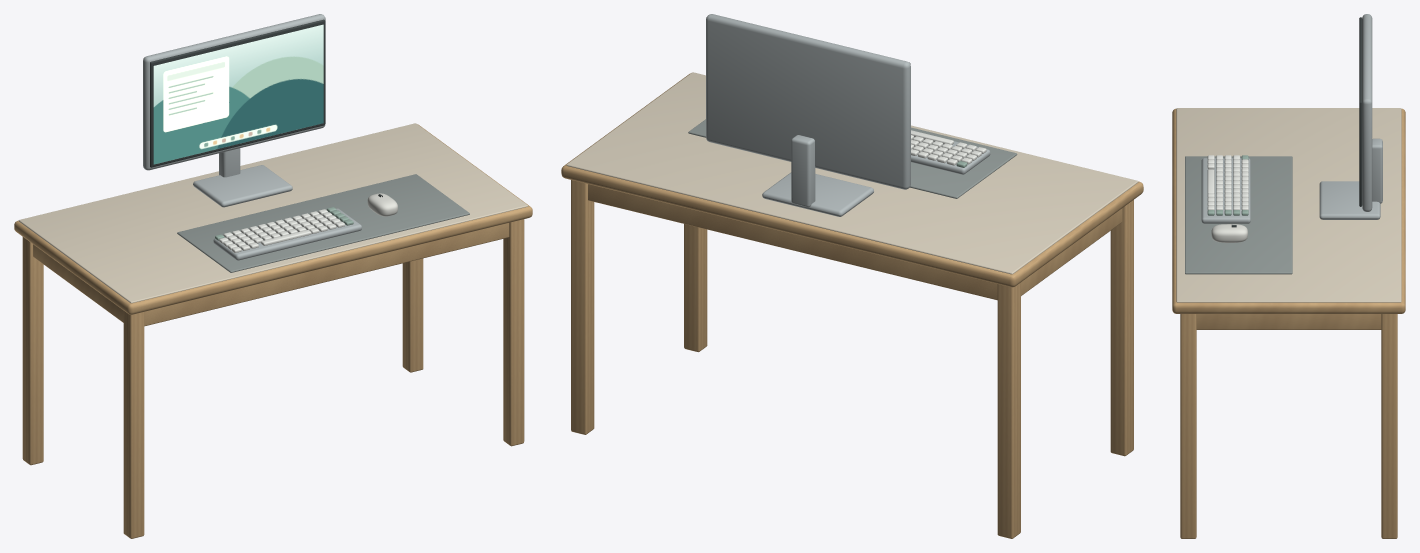
Rendered from workstation.glb.
3 renders of one model, left to right at view 1: azimuth 30°, elevation 25°; view 2: azimuth 150°, elevation 25°; view 3: azimuth 270°, elevation 25°, orthographic. The views are drawn at different scales.
Parts seen in each view (by area): view 1: Solid oak edge tabletop, Inset warm grey linoleum, Inset LCD image, Wool desk pad, Monitor aluminum foot, Sculpted keycap.001, Dark glass bezel; view 2: Solid oak edge tabletop, Inset warm grey linoleum, Monitor aluminum foot, Wool desk pad, Sculpted keycap.001; view 3: Inset warm grey linoleum, Solid oak edge tabletop, Wool desk pad, Monitor aluminum foot, Sculpted keycap.001, Dark glass bezel, Wireless mouse.
Part boxes in pixels (left/top/right/bottom): Solid oak edge tabletop: left=14, top=124, right=532, bottom=538; Inset warm grey linoleum: left=18, top=123, right=528, bottom=303; Inset LCD image: left=153, top=24, right=323, bottom=164; Wool desk pad: left=177, top=174, right=469, bottom=272; Monitor aluminum foot: left=143, top=14, right=361, bottom=260; Sculpted keycap.001: left=219, top=209, right=344, bottom=252; Dark glass bezel: left=150, top=19, right=382, bottom=197; Solid oak edge tabletop: left=561, top=73, right=1143, bottom=538; Inset warm grey linoleum: left=566, top=72, right=1138, bottom=274; Monitor aluminum foot: left=706, top=14, right=990, bottom=216; Wool desk pad: left=688, top=119, right=1017, bottom=198; Sculpted keycap.001: left=911, top=130, right=986, bottom=165; Inset warm grey linoleum: left=1176, top=108, right=1401, bottom=302; Solid oak edge tabletop: left=1172, top=108, right=1405, bottom=538; Wool desk pad: left=1185, top=156, right=1292, bottom=274; Monitor aluminum foot: left=1201, top=14, right=1382, bottom=223; Sculpted keycap.001: left=1207, top=155, right=1248, bottom=210; Dark glass bezel: left=1231, top=17, right=1362, bottom=227; Wireless mouse: left=1211, top=224, right=1247, bottom=242.
Bounding box in the file's own units: 1.3 × 1.19 × 0.65.
10 materials, 2 textured.
